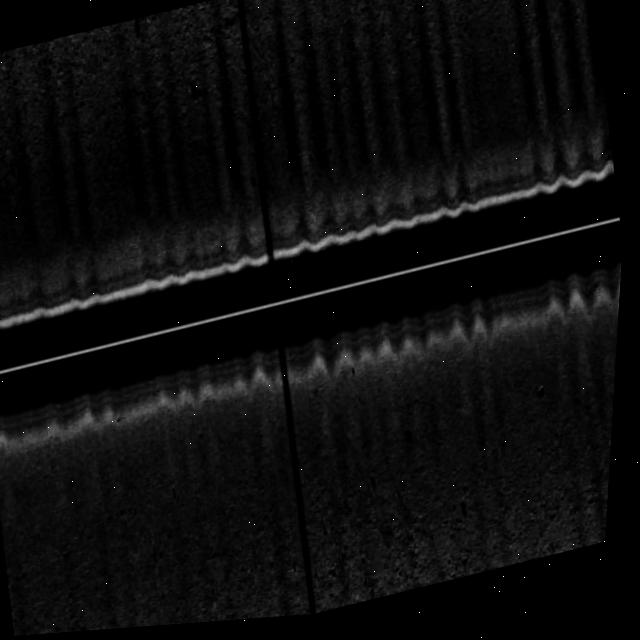mine: (535, 388, 553, 409)
